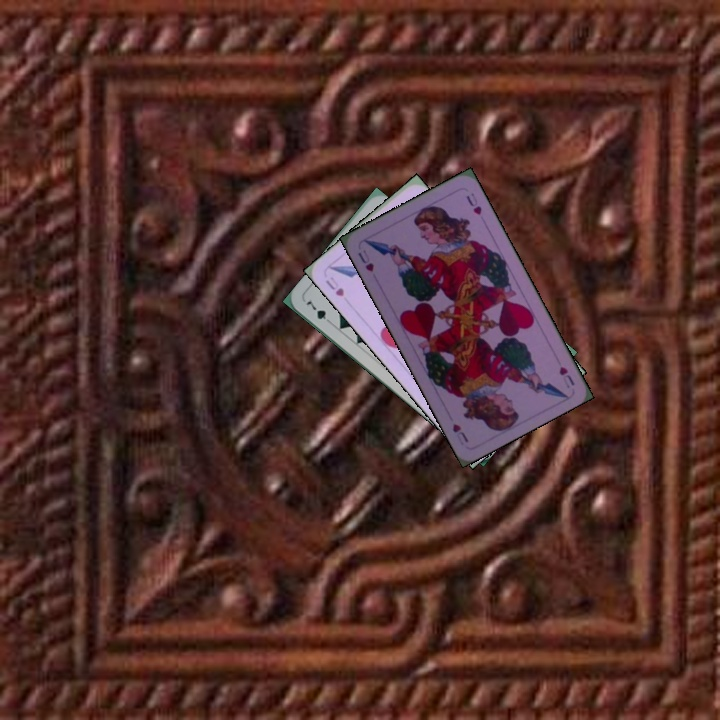G7: (302, 296, 336, 328)
HU: (354, 245, 377, 275), (555, 362, 577, 391), (322, 276, 347, 299)
